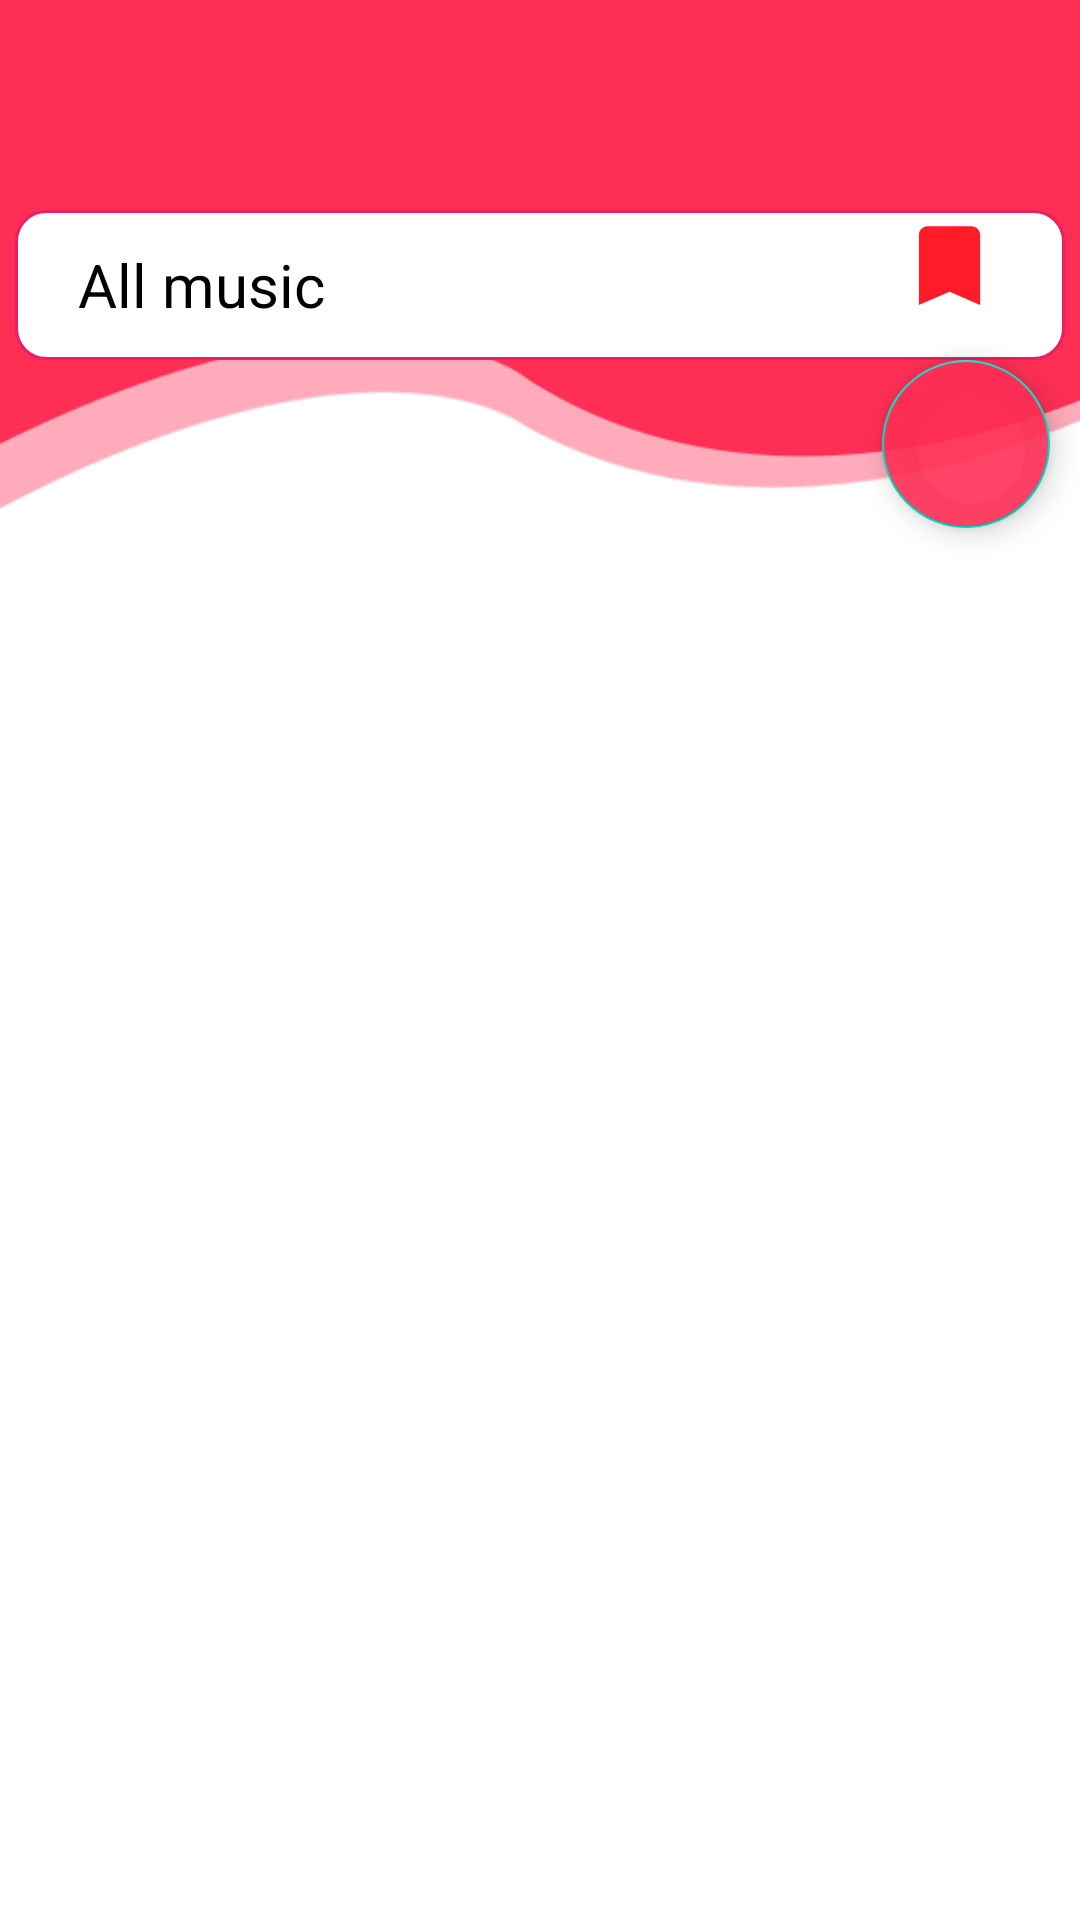

Screen size 1080×1920. Icon name, then its box in pixels as (x1, y1, x2, y2):
bookmark: (918, 226, 981, 305)
